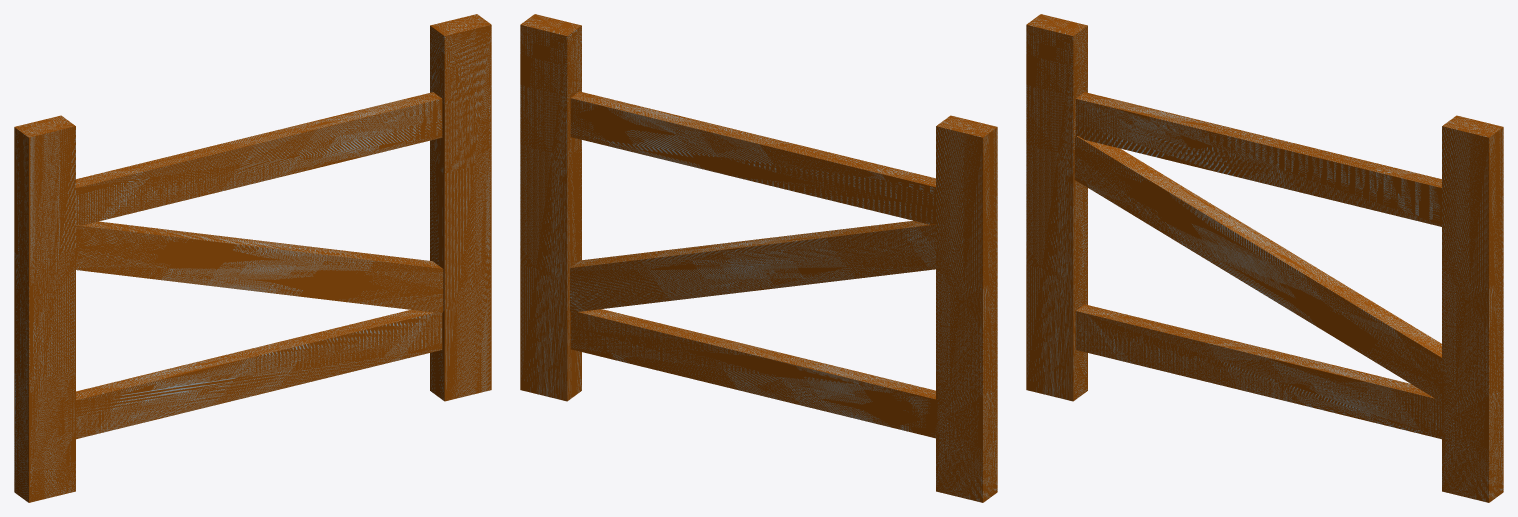
The model's file is Fence_Small_Timber_02.fbx.
3 views of the same model, side by side, from view 1: azimuth 30°, elevation 25°; view 2: azimuth 150°, elevation 25°; view 3: azimuth 330°, elevation 25° (orthographic).
Parts seen in each view (by area): view 1: Model; view 2: Model; view 3: Model.
Boxes of the visible parts, x1=… form: Model: x1=14, y1=14, x2=491, y2=502; Model: x1=520, y1=14, x2=997, y2=502; Model: x1=1026, y1=14, x2=1503, y2=502.
Size of the model in its own units: 240 by 181 by 13.18.
